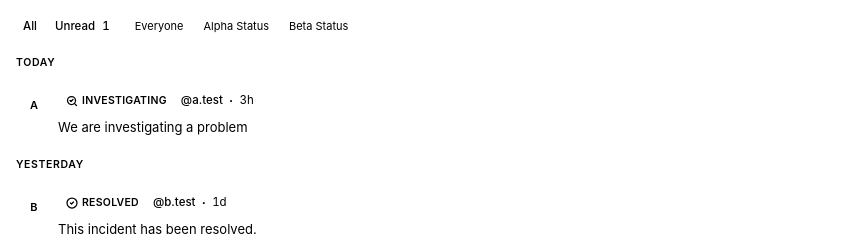
Test: the account chips › combine with the status filter
Step 1. Click the button "Unread 1" → [82, 27], box [47,15,118,38]
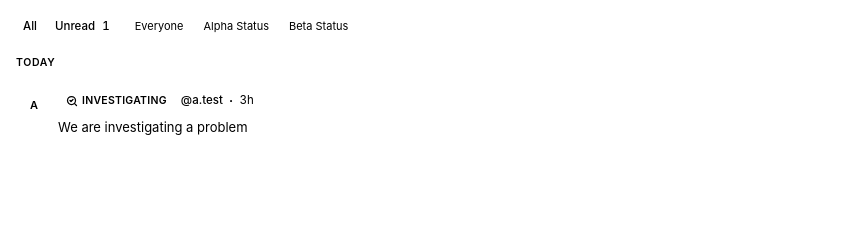
Step 2. Click the button "Beta Status" → [319, 27], box [281,16,356,37]
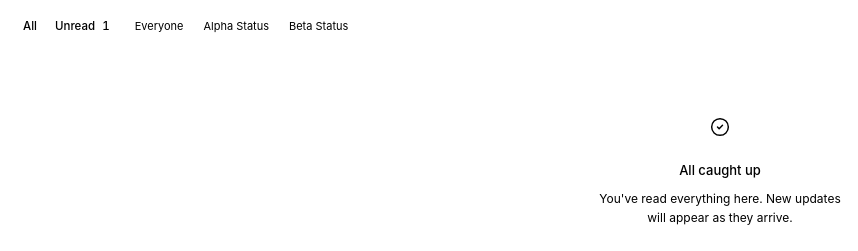
Expected: the text "This incident has been resolved." is not shown
Now the text "We are investigating a problem" is gone
Now the text "All caught up" is shown, box [679,161,761,181]
